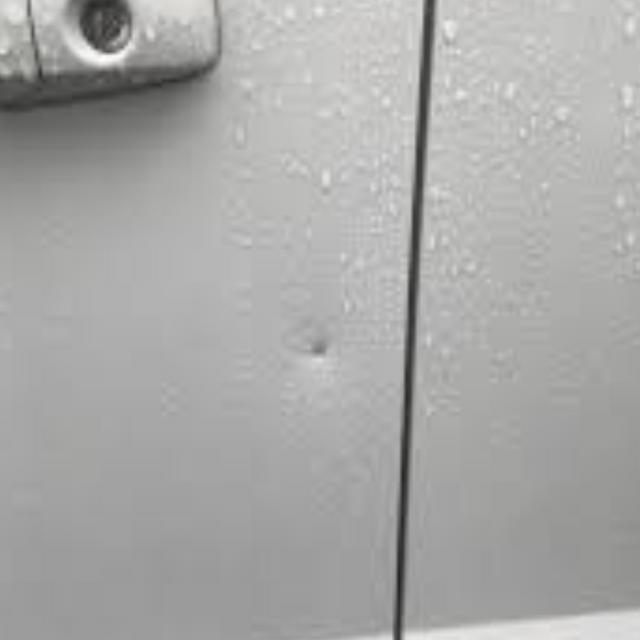dents: (290, 305, 357, 404)
